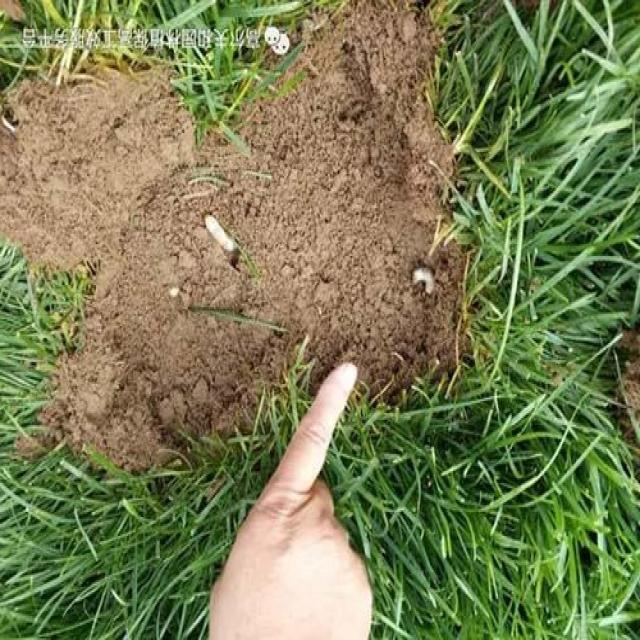grub: (403, 254, 435, 308), (204, 208, 238, 251)
